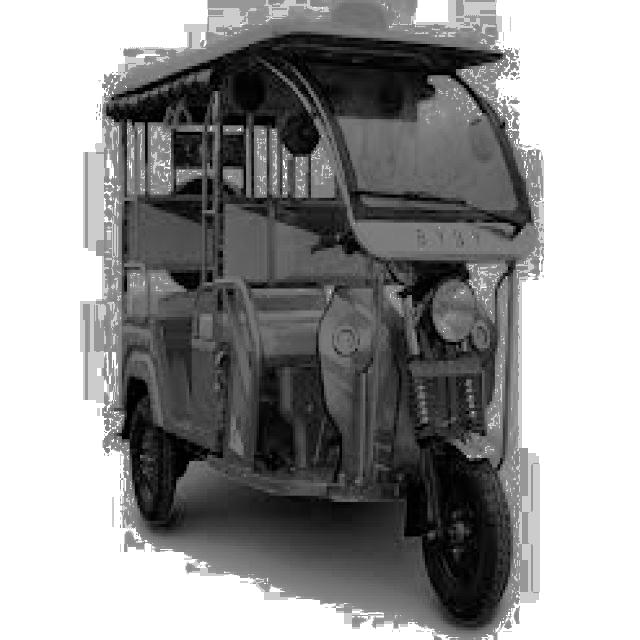Toto: (99, 15, 527, 627)
